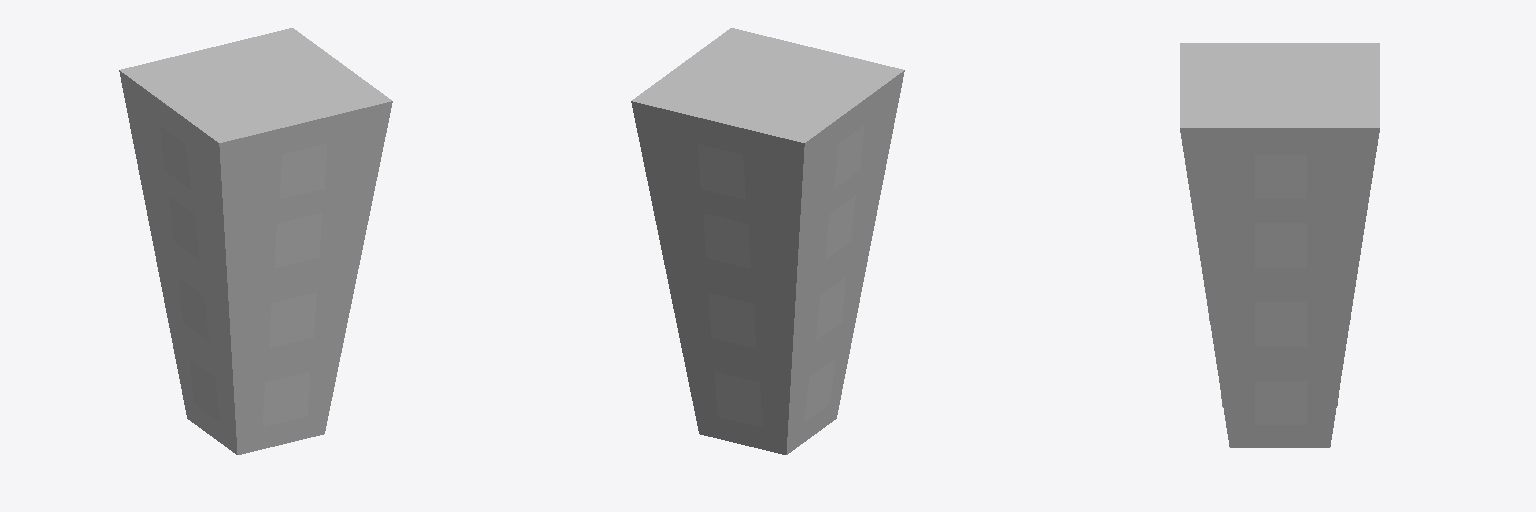
Rendered from BuildingV8.obj.
3 renders of one model, left to right at view 1: azimuth 30°, elevation 25°; view 2: azimuth 150°, elevation 25°; view 3: azimuth 270°, elevation 25°, orthographic.
Parts seen in each view (by area): view 1: polySurface127; view 2: polySurface127; view 3: polySurface127.
Boxes of the visible parts, box(x1,y1,x2,y2) form: polySurface127: box(119, 28, 392, 454); polySurface127: box(631, 28, 904, 454); polySurface127: box(1180, 43, 1379, 447).
Size of the model in its own units: 1.99 by 3.73 by 1.99.